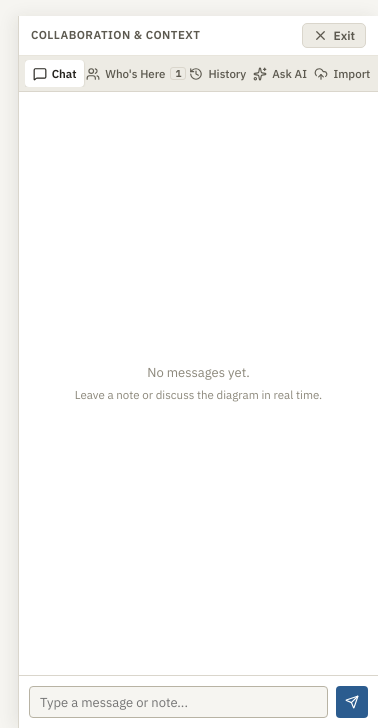
ContextDrawer Component › switches to Import tab on tab click
Click the tab with id "drawer-tab-import" at (342, 74), box [313,60,372,87]
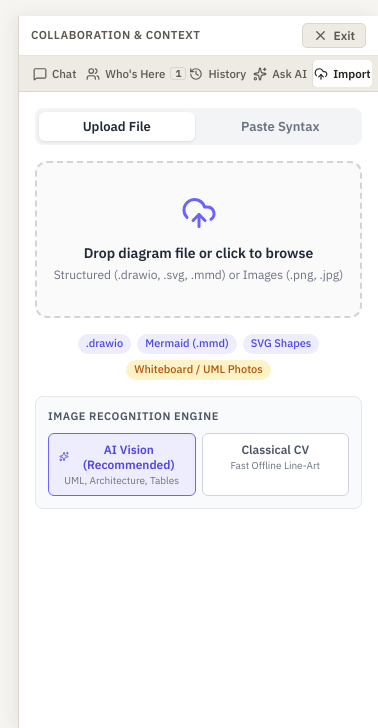
Now the text "Upload File" is shown, box [39,112,194,141]
Now the text "Paste Syntax" is shown, box [202,112,358,141]
